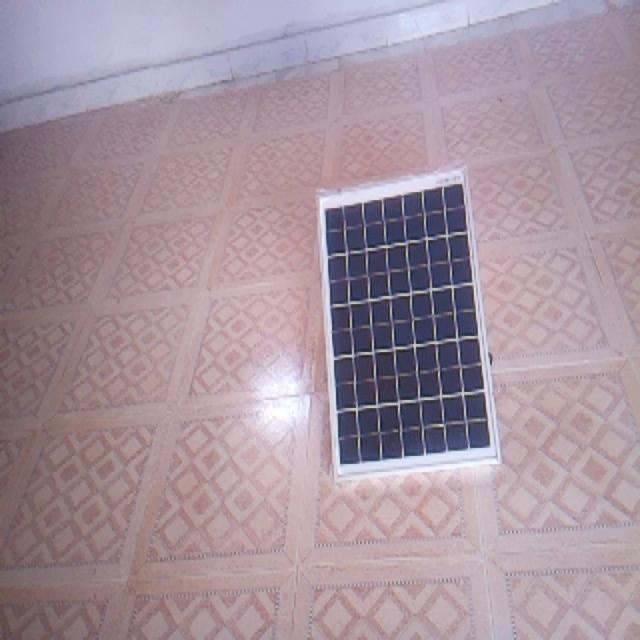Normal Solar Panel: (318, 167, 501, 481)
